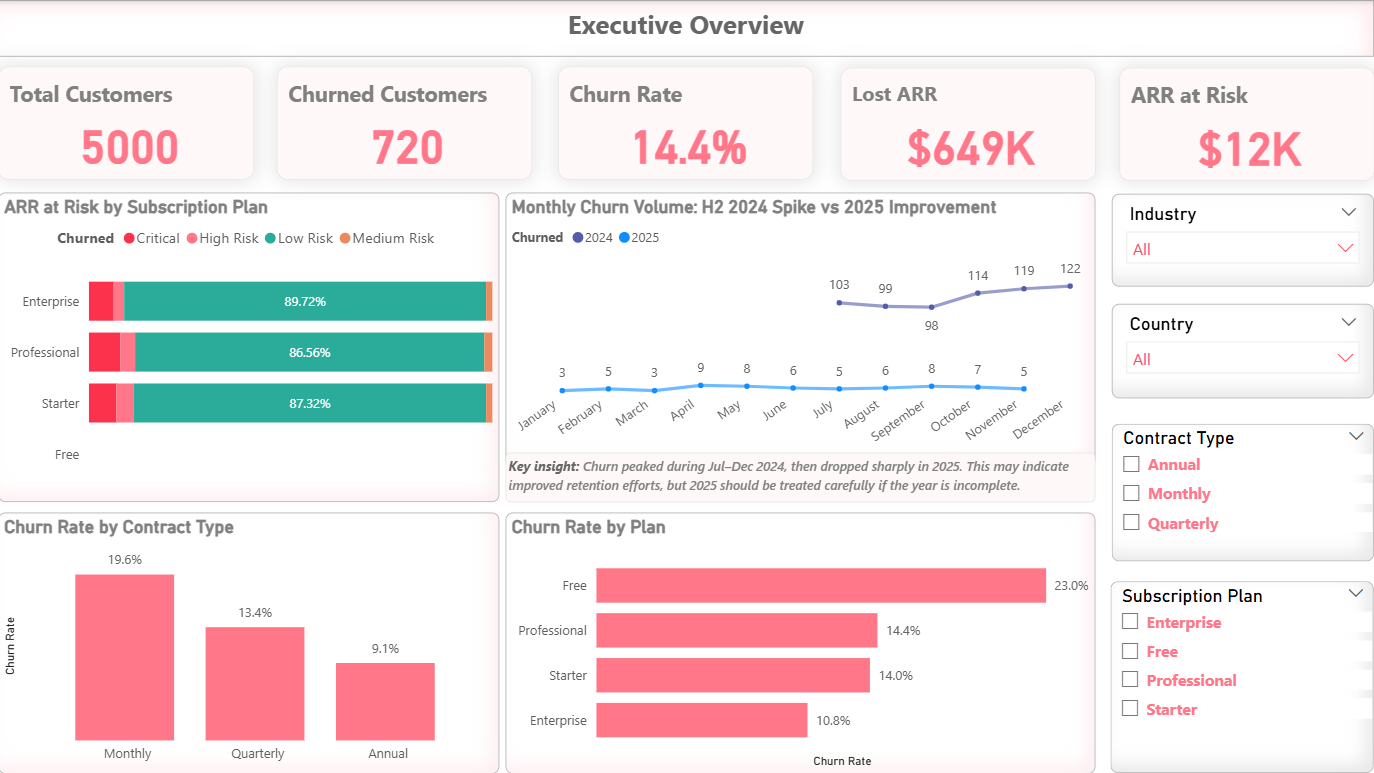

What the dashboard file says about the page in this screenshot:
{"tool":"powerbi","page":{"name":"Executive Overview","canvas":[1280,720],"ordinal":0},"visuals":[{"type":"textbox","box":[0,0,1280,52.5],"z":0},{"type":"slicer","fields":{"Values":["saas_churn_full_for_powerbi.subscription_plan"]},"box":[1035,541.2,245,178.8],"z":1000},{"type":"card","title":"Total Customers","fields":{"Values":["saas_churn_full_for_powerbi.Total Customers"]},"box":[0,61.6,238.4,105.8],"z":2000},{"type":"card","title":"Churn Rate","fields":{"Values":["saas_churn_full_for_powerbi.Churn Rate"]},"box":[520.9,61.6,237.2,105.8],"z":3000},{"type":"card","title":"Lost ARR","fields":{"Values":["saas_churn_full_for_powerbi.Revenue At Risk"]},"box":[783.7,62.8,237.2,105.8],"z":4000},{"type":"card","title":"ARR at Risk","fields":{"Values":["saas_churn_full_for_powerbi.ARR at Risk"]},"box":[1043,62.8,237.2,105.8],"z":5000},{"type":"slicer","fields":{"Values":["saas_churn_full_for_powerbi.contract_type"]},"box":[1036,394.2,244.2,127.9],"z":6000},{"type":"slicer","fields":{"Values":["saas_churn_full_for_powerbi.industry"]},"box":[1036,180.2,244.2,86],"z":7000},{"type":"slicer","fields":{"Values":["saas_churn_full_for_powerbi.country"]},"box":[1036,282.6,244.2,88.4],"z":8000},{"type":"clusteredBarChart","title":"Churn Rate by Plan","fields":{"Y":["saas_churn_full_for_powerbi.Churn Rate"],"Category":["saas_churn_full_for_powerbi.subscription_plan"]},"box":[472.1,476.7,548.8,243],"z":9000},{"type":"clusteredColumnChart","title":"Churn Rate by Contract Type","fields":{"Category":["saas_churn_full_for_powerbi.contract_type"],"Y":["saas_churn_full_for_powerbi.Churn Rate"]},"box":[0,476.7,466.3,243],"z":10000},{"type":"hundredPercentStackedBarChart","title":"ARR at Risk by Subscription Plan","fields":{"Category":["saas_churn_full_for_powerbi.subscription_plan"],"Y":["saas_churn_full_for_powerbi.ARR"],"Series":["saas_churn_full_for_powerbi.predicted_risk_level"]},"box":[0,179.1,466.3,288.4],"z":11000},{"type":"lineChart","title":"Monthly Churn Volume: H2 2024 Spike vs 2025 Improvement","fields":{"Category":["saas_churn_full_for_powerbi.churn_date.Variation.Date Hierarchy.Month"],"Series":["saas_churn_full_for_powerbi.churn_date.Variation.Date Hierarchy.Year"],"Y":["saas_churn_full_for_powerbi.Churned Customers"]},"box":[472.1,179.1,548.8,255.8],"z":12000},{"type":"card","title":"Churned Customers","fields":{"Values":["saas_churn_full_for_powerbi.Churned Customers"]},"box":[259.3,61.6,237.2,105.8],"z":13000},{"type":"textbox","box":[472.1,420.9,548.8,46.5],"z":14000}]}

Visuals, with their boxes in screenshot pixels (x1, y1, x2, y2), scaled from the page's 1280x720 canvas onto the 1374x773 screenshot:
textbox: detection(0, 0, 1373, 56)
slicer - saas_churn_full_for_powerbi.subscription_plan: detection(1111, 581, 1373, 772)
"Total Customers" card: detection(0, 66, 256, 180)
"Churn Rate" card: detection(559, 66, 814, 180)
"Lost ARR" card: detection(841, 67, 1096, 181)
"ARR at Risk" card: detection(1120, 67, 1373, 181)
slicer - saas_churn_full_for_powerbi.contract_type: detection(1112, 423, 1373, 561)
slicer - saas_churn_full_for_powerbi.industry: detection(1112, 193, 1373, 286)
slicer - saas_churn_full_for_powerbi.country: detection(1112, 303, 1373, 398)
"Churn Rate by Plan" clusteredBarChart: detection(507, 512, 1096, 772)
"Churn Rate by Contract Type" clusteredColumnChart: detection(0, 512, 501, 772)
"ARR at Risk by Subscription Plan" hundredPercentStackedBarChart: detection(0, 192, 501, 502)
"Monthly Churn Volume: H2 2024 Spike vs 2025 Improvement" lineChart: detection(507, 192, 1096, 467)
"Churned Customers" card: detection(278, 66, 533, 180)
textbox: detection(507, 452, 1096, 502)
